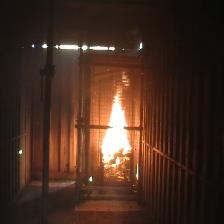fire: (102, 91, 132, 169)
